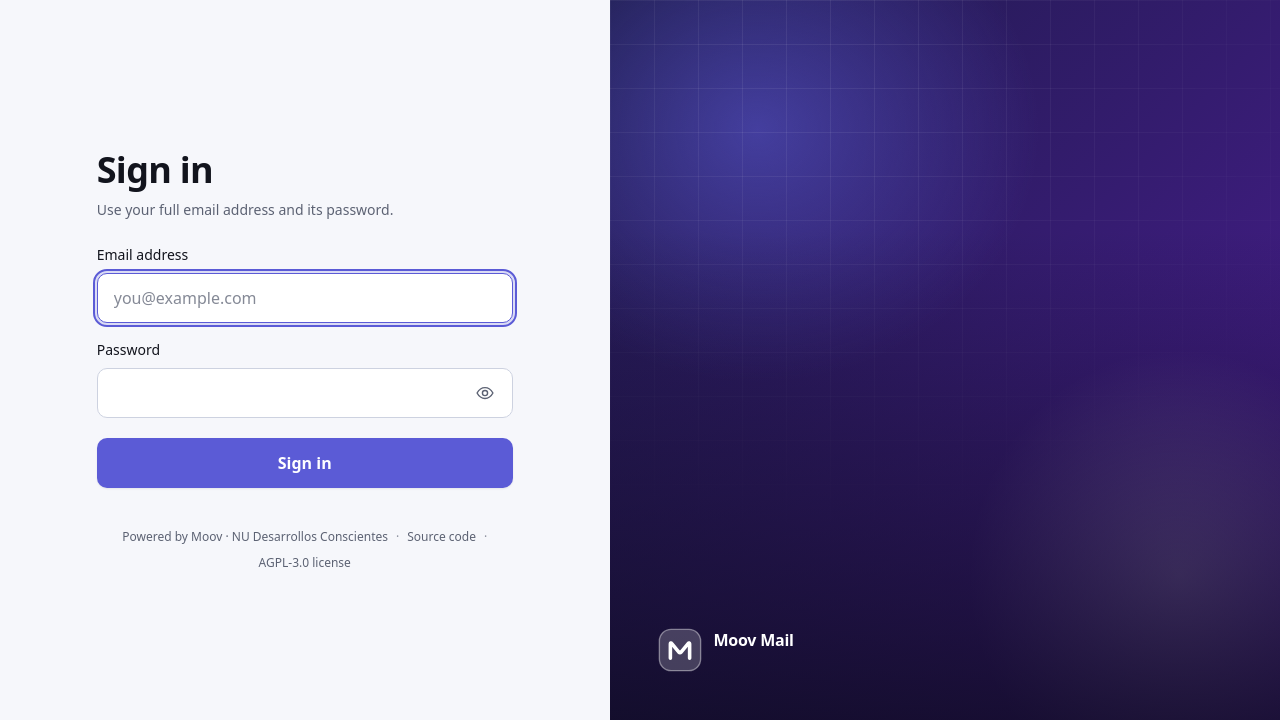
Test case: client-side validation › clears the message as soon as the user corrects the field
The image size is (1280, 720).
Click the button "Sign in".
click(305, 463)  # box left=97, top=438, right=513, bottom=488
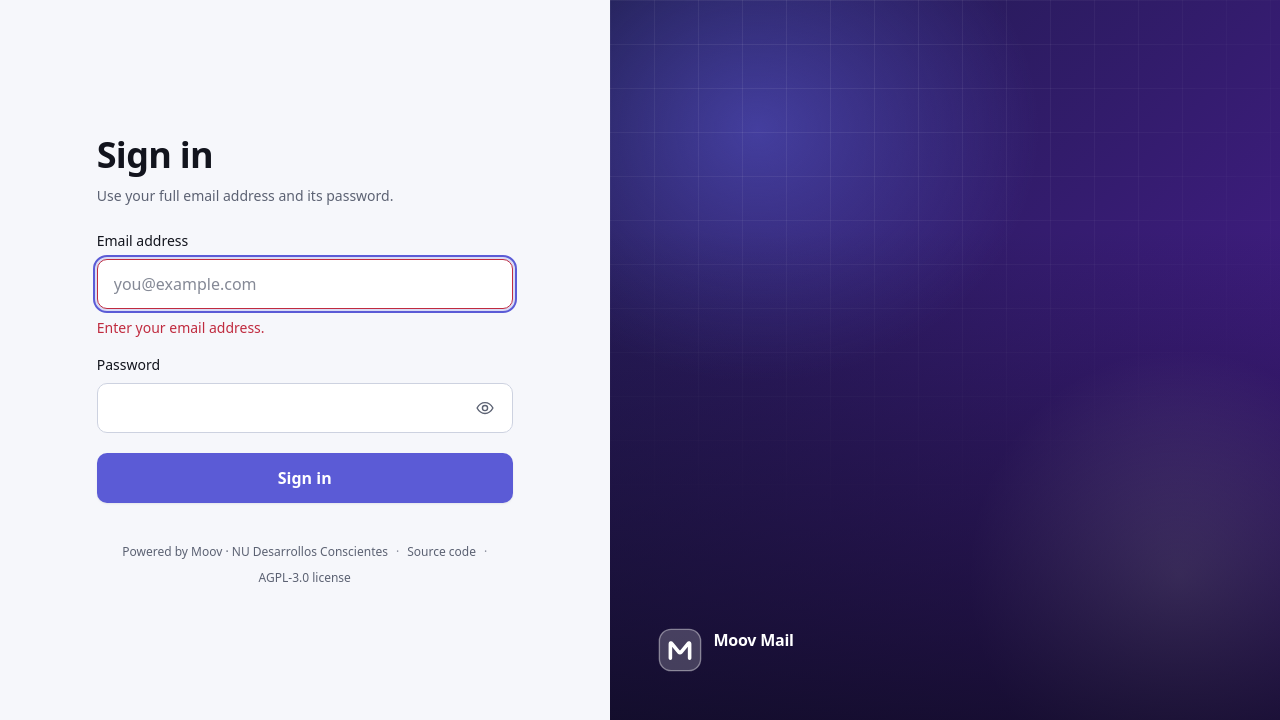
Expected: the text "Enter your email address." is shown, left=97, top=318, right=265, bottom=337
Type "a" into the field labelled "Email address".
click(305, 284); type("a")  # box left=97, top=259, right=513, bottom=309
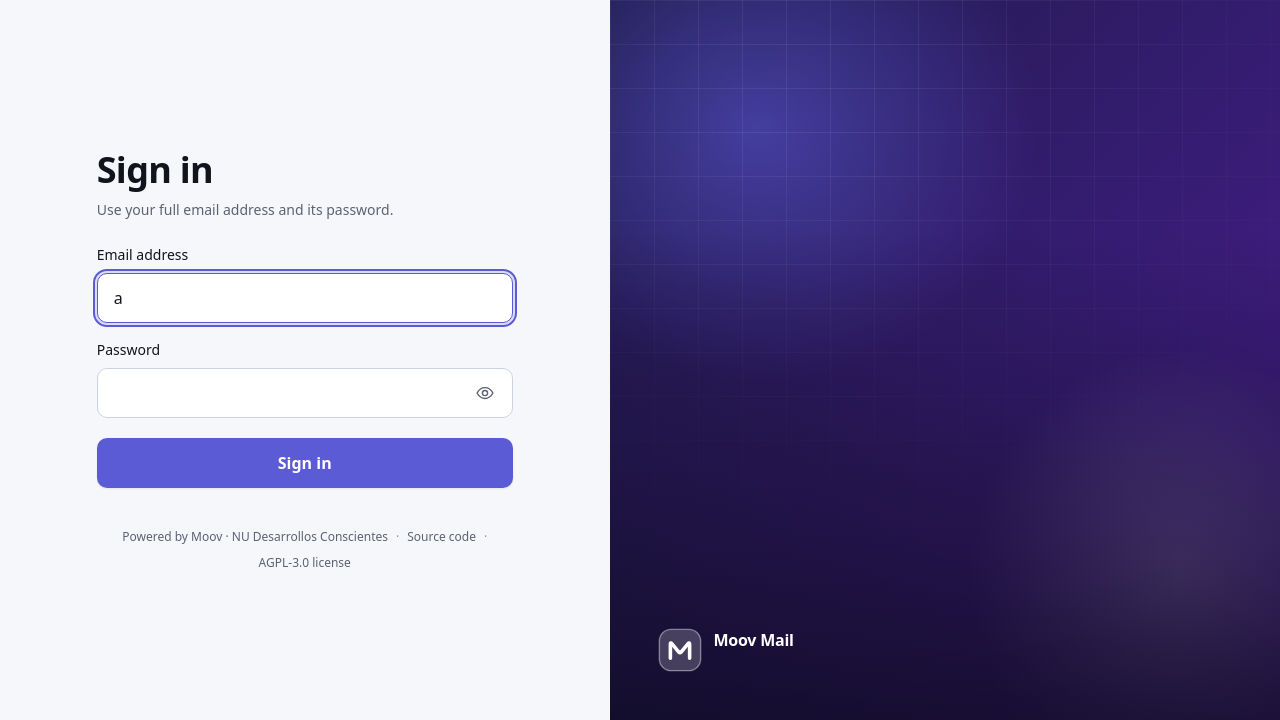
Expected: the text "Enter your email address." is not shown
